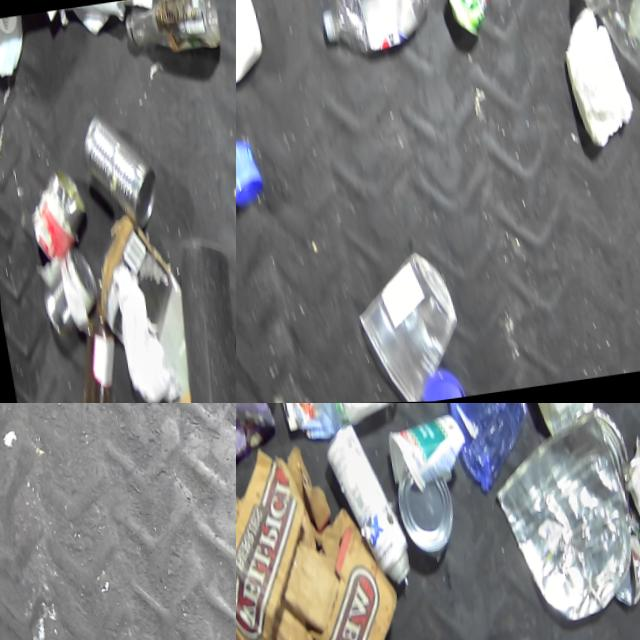can: (479, 409, 637, 631), (317, 417, 408, 595), (72, 105, 161, 234), (19, 162, 89, 259), (31, 244, 100, 342), (387, 465, 453, 556), (608, 417, 640, 530), (600, 540, 640, 610), (433, 0, 497, 42)
milk_jug: (519, 403, 594, 437)
non_white_jug: (563, 0, 640, 125)
plastic_bottle: (307, 0, 435, 60), (118, 0, 221, 59)
